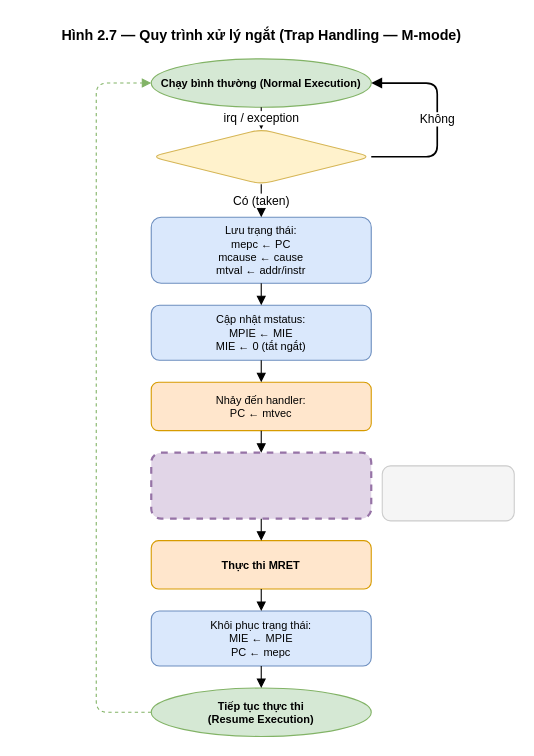
The diagram is 534 pixels wide and 756 high, and some of its shapes have lost their labels. The shapes that lost their labels are listed below. From the top down, each one's centre as x and y in pixels, then its label:
At point 260,156: "Ngắt / Ngoại lệ phát sinh?".
At point 261,485: "ISR thực thi (Interrupt Service Routine) — xử lý nguyên nhân ngắt".
At point 447,493: "CSR được cập nhật: mepc, mcause, mtval, mstatus".
